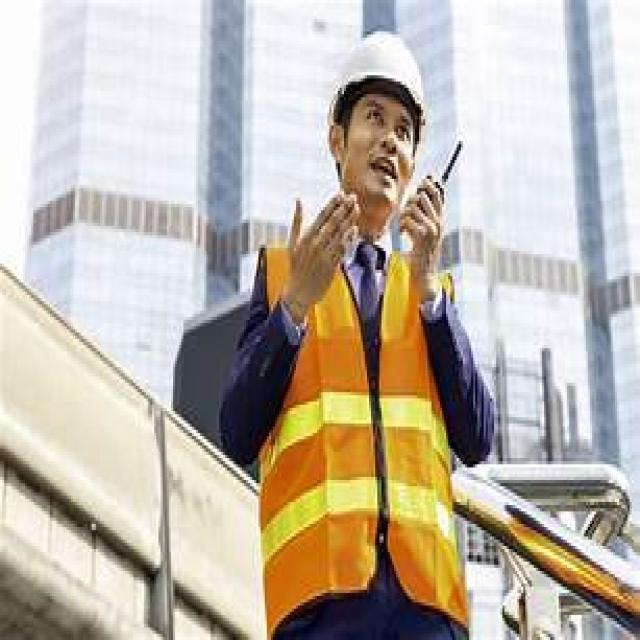not-gloved: (286, 179, 368, 319), (407, 179, 455, 297)
